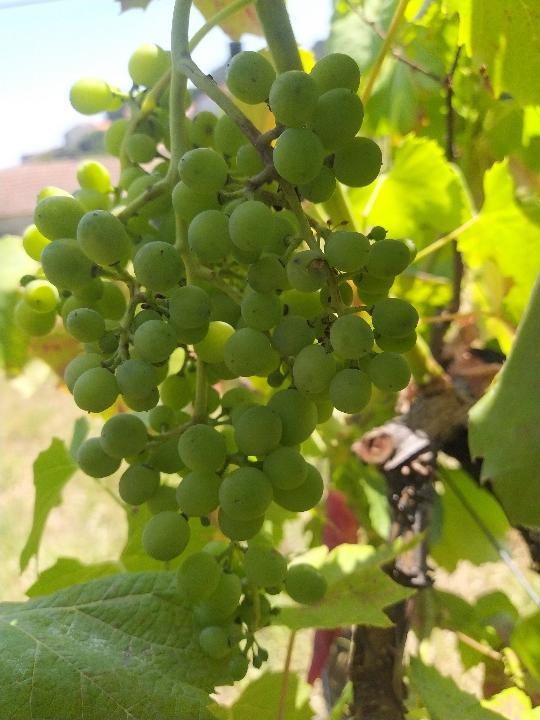grape: (9, 41, 422, 681)
